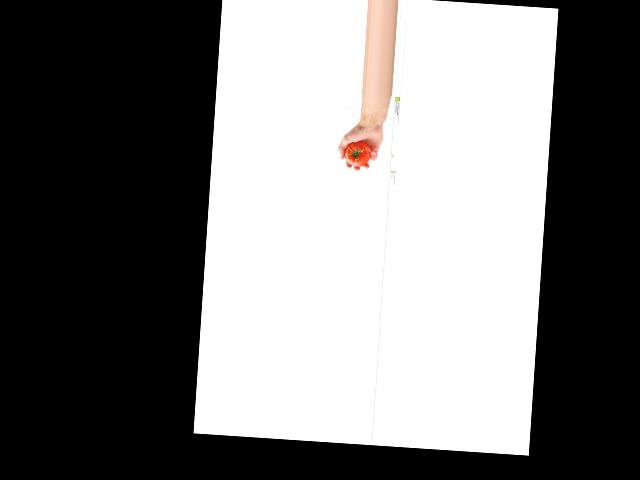tomato: (344, 140, 372, 167)
